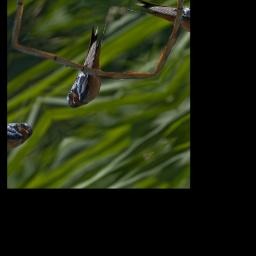Swallow: (38, 15, 143, 113)
